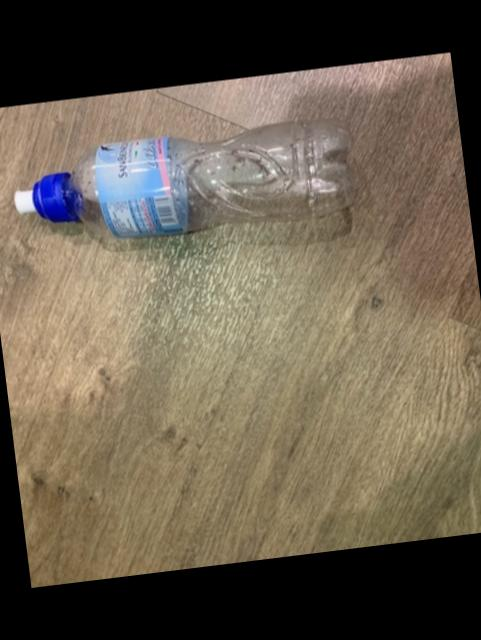plastic: (12, 123, 349, 240)
